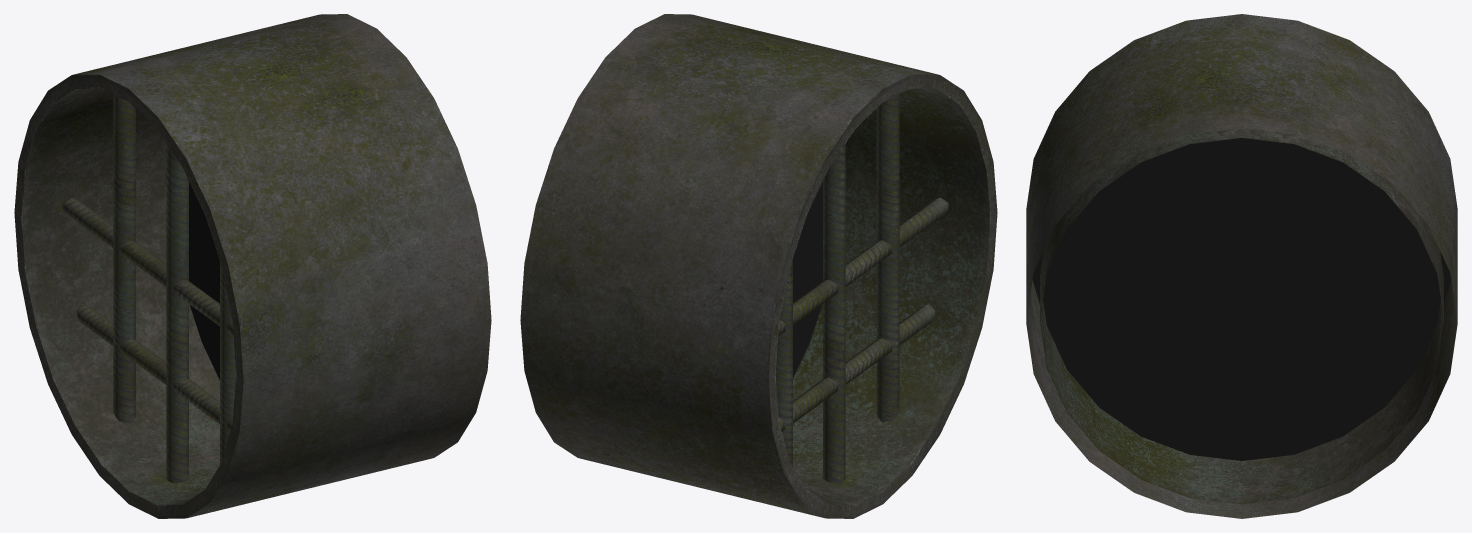
Rendered from SM_pipe_01.fbx.
3 views of the same model, side by side, from view 1: azimuth 30°, elevation 25°; view 2: azimuth 150°, elevation 25°; view 3: azimuth 270°, elevation 25° (orthographic). The views are drawn at different scales.
Visible parts, largest first — view 1: SM_pipe_01_LOD0; view 2: SM_pipe_01_LOD0; view 3: SM_pipe_01_LOD0.
Part boxes in pixels (bbox=[...]): SM_pipe_01_LOD0: bbox=[14, 14, 491, 518]; SM_pipe_01_LOD0: bbox=[520, 14, 997, 518]; SM_pipe_01_LOD0: bbox=[1026, 14, 1457, 518].
Size of the model in its own units: 100 by 160 by 160.
Materials: 1 (1 with a texture image).
